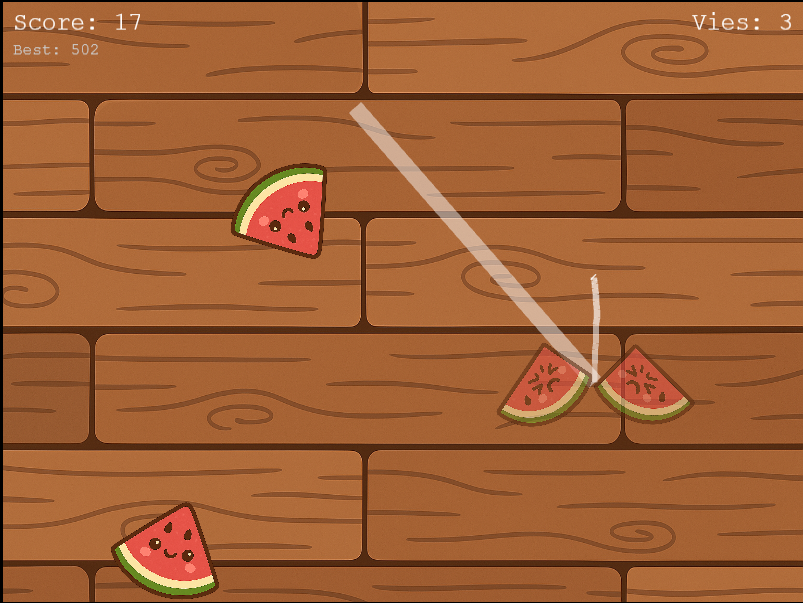fruit: (105, 497, 224, 600), (228, 153, 339, 263)
